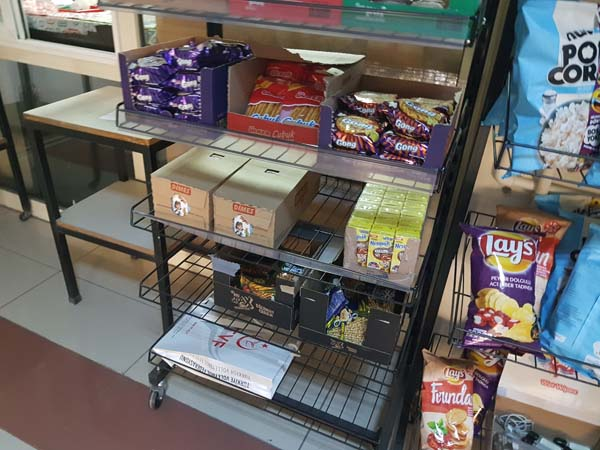eticubuk: (250, 76, 284, 119), (290, 83, 319, 126)
etigong: (131, 55, 169, 83)
laysfirindan: (420, 346, 475, 450)
layspeynirsoslu: (466, 224, 541, 357)
nesquick200ml: (368, 231, 392, 273), (347, 225, 366, 274), (395, 235, 414, 279)
popcorn: (516, 1, 598, 176)
